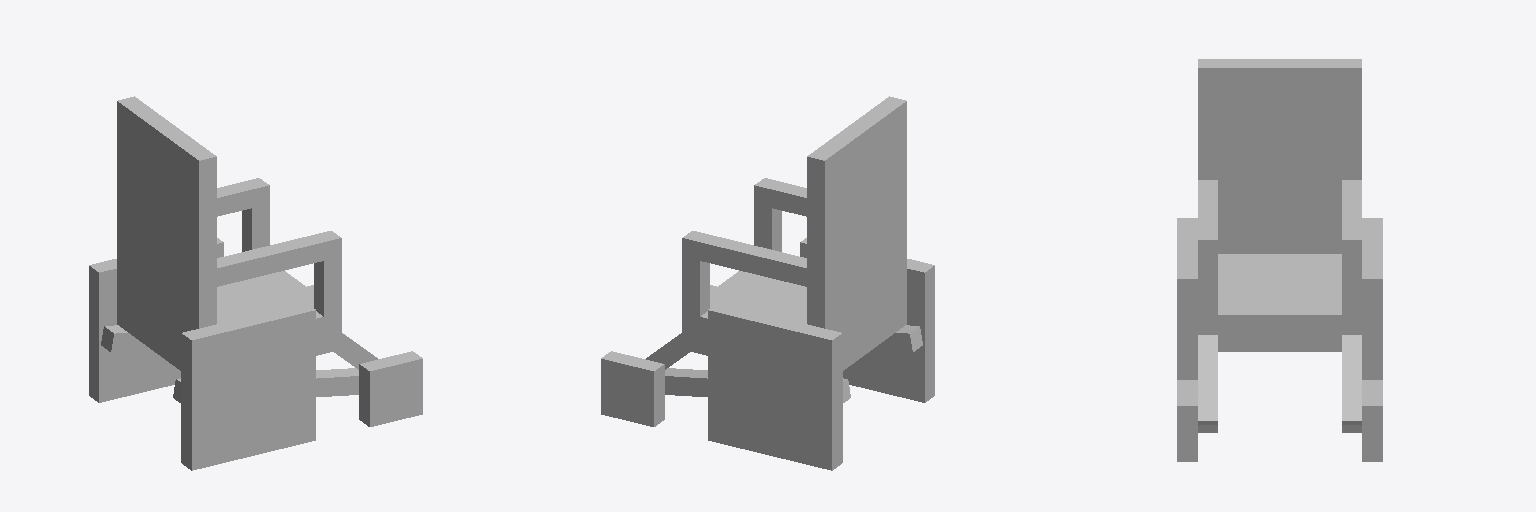
File: wheelchair.obj
The picture shows the model from 3 angles: view 1: azimuth 30°, elevation 25°; view 2: azimuth 150°, elevation 25°; view 3: azimuth 270°, elevation 25°; orthographic projection.
Visible parts, largest first — view 1: cube; view 2: cube; view 3: cube.
Part boxes in pixels (x1,y1,x2,y2): cube: (89,96,422,470); cube: (601,96,934,470); cube: (1177,59,1382,461).
Bounding box in the file's own units: 0.8125 × 1 × 0.625.